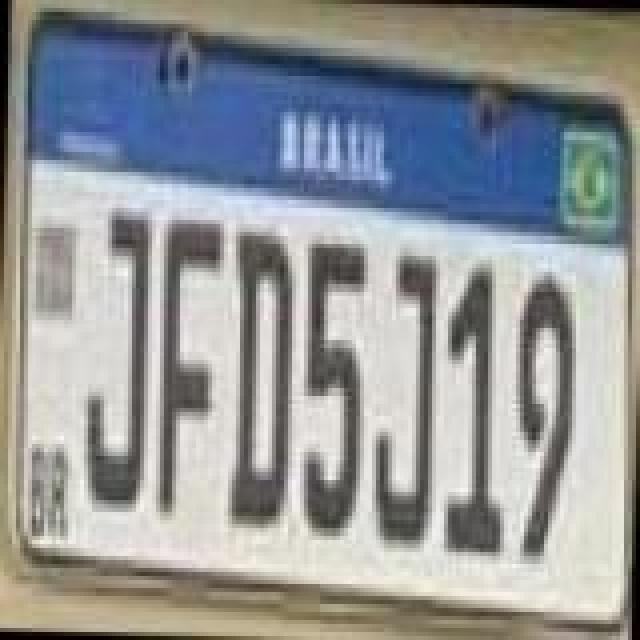1: (434, 260, 514, 560)
5: (298, 234, 370, 534)
9: (506, 270, 578, 562)
D: (226, 224, 302, 528)
F: (156, 210, 228, 522)
J: (80, 206, 152, 514), (370, 248, 442, 548)
